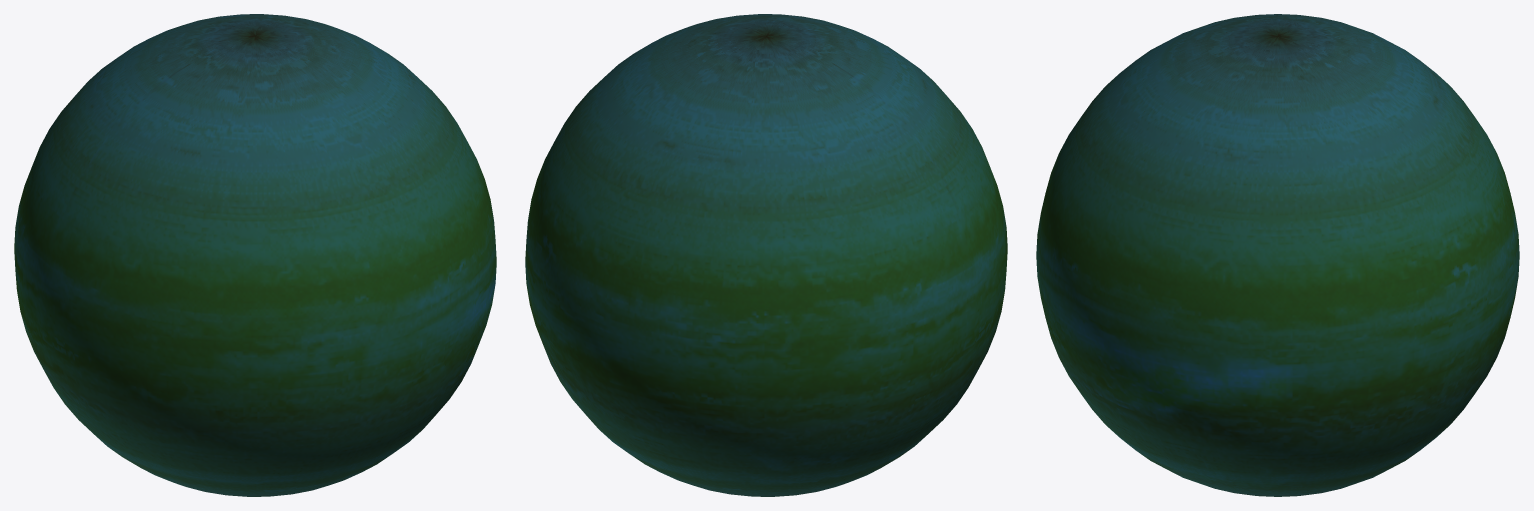
The model's file is saturn.gltf.
The picture shows the model from 3 angles, left to right: view 1: azimuth 30°, elevation 25°; view 2: azimuth 150°, elevation 25°; view 3: azimuth 270°, elevation 25°; orthographic projection.
Visible parts, largest first — view 1: Saturn; view 2: Saturn; view 3: Saturn.
Boxes of the visible parts, box(x1,y1,x2,y2) form: Saturn: box(14, 14, 496, 496); Saturn: box(525, 14, 1007, 496); Saturn: box(1036, 14, 1519, 496).
Bounding box in the file's own units: 2 × 2 × 2.
Materials: 1 (1 with a texture image).
